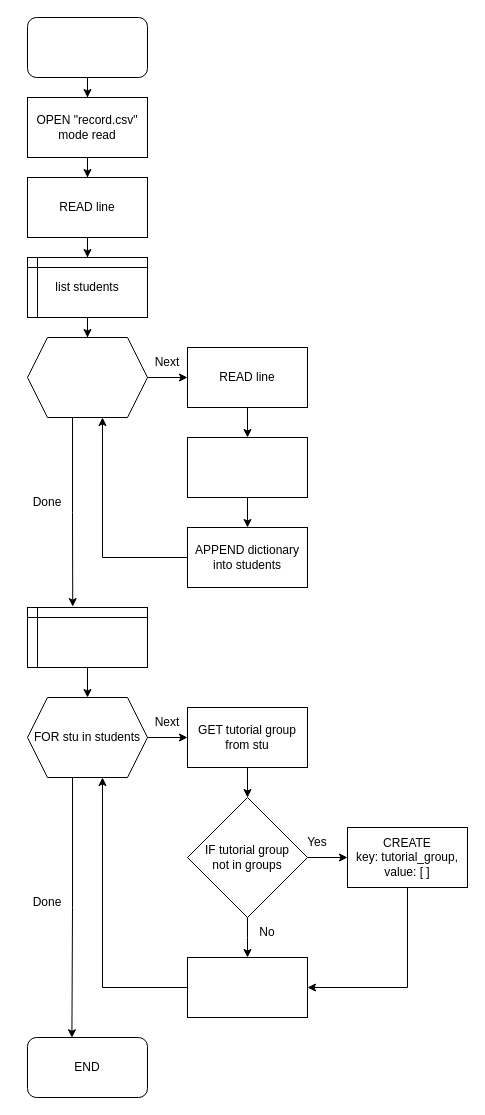
The diagram is 485 pixels wide and 1115 high, and some of its shapes have lost their labels. The box of each missing label's shape, as (x1, y1, x2, y2) in pixels:
APPEND stu into groups: (186, 956, 308, 1018)
CONVERT line into dictionary: (186, 436, 308, 498)
dictionary groups: (26, 606, 148, 668)
FOR line in file: (26, 336, 148, 418)
START: (26, 16, 148, 78)
